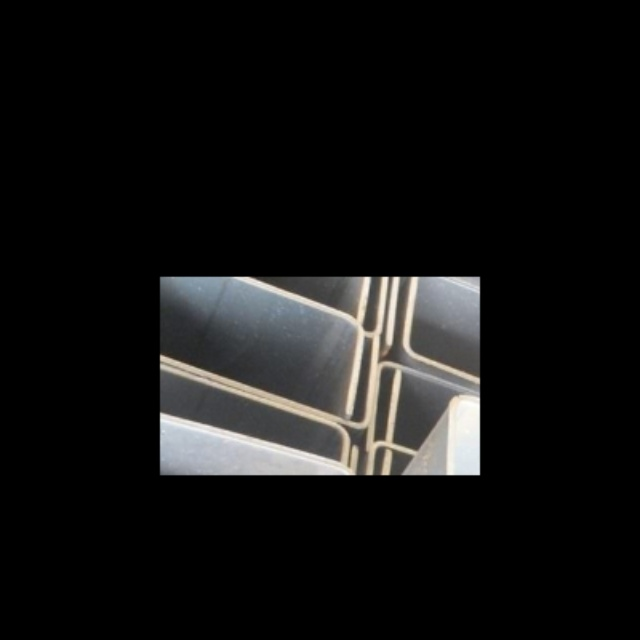Shveller: (160, 413, 371, 475), (160, 408, 351, 475), (391, 287, 480, 411), (409, 282, 480, 421)
